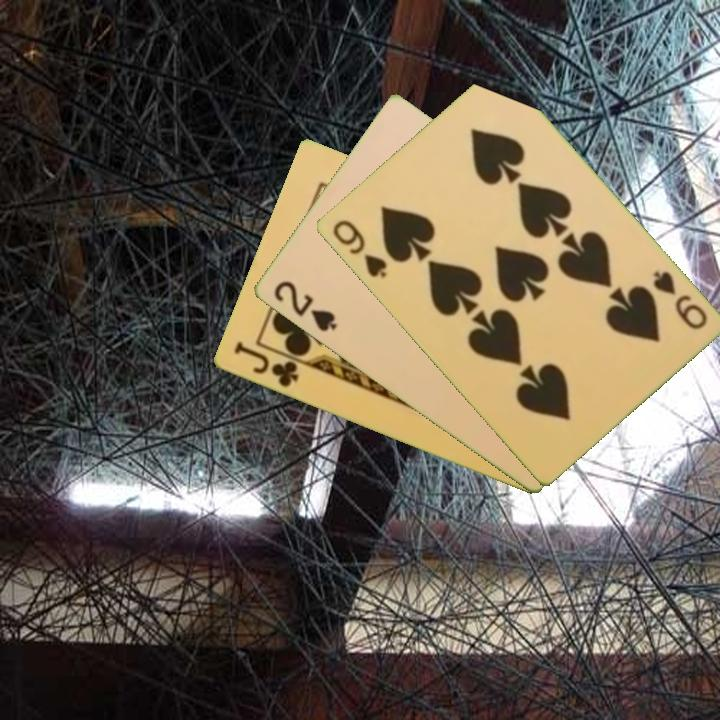2s: (269, 277, 340, 335)
9s: (648, 267, 710, 333), (328, 216, 389, 281)
Jc: (230, 338, 301, 391)
